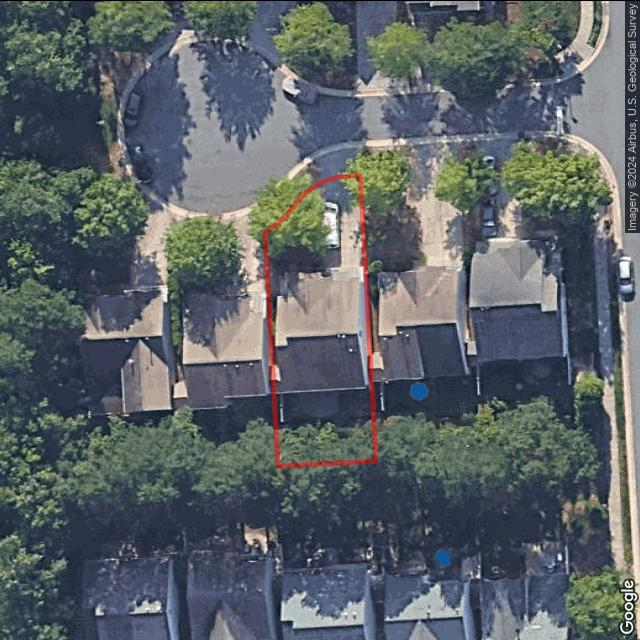Driveway: (320, 174, 364, 273)
Extra-Driveway: (315, 147, 360, 185)
Extra-Lawn: (264, 162, 320, 234)
House: (274, 268, 367, 392)
Lawn: (265, 174, 377, 464)
Other: (274, 386, 372, 423)
Sidewalk: (279, 262, 325, 294)
